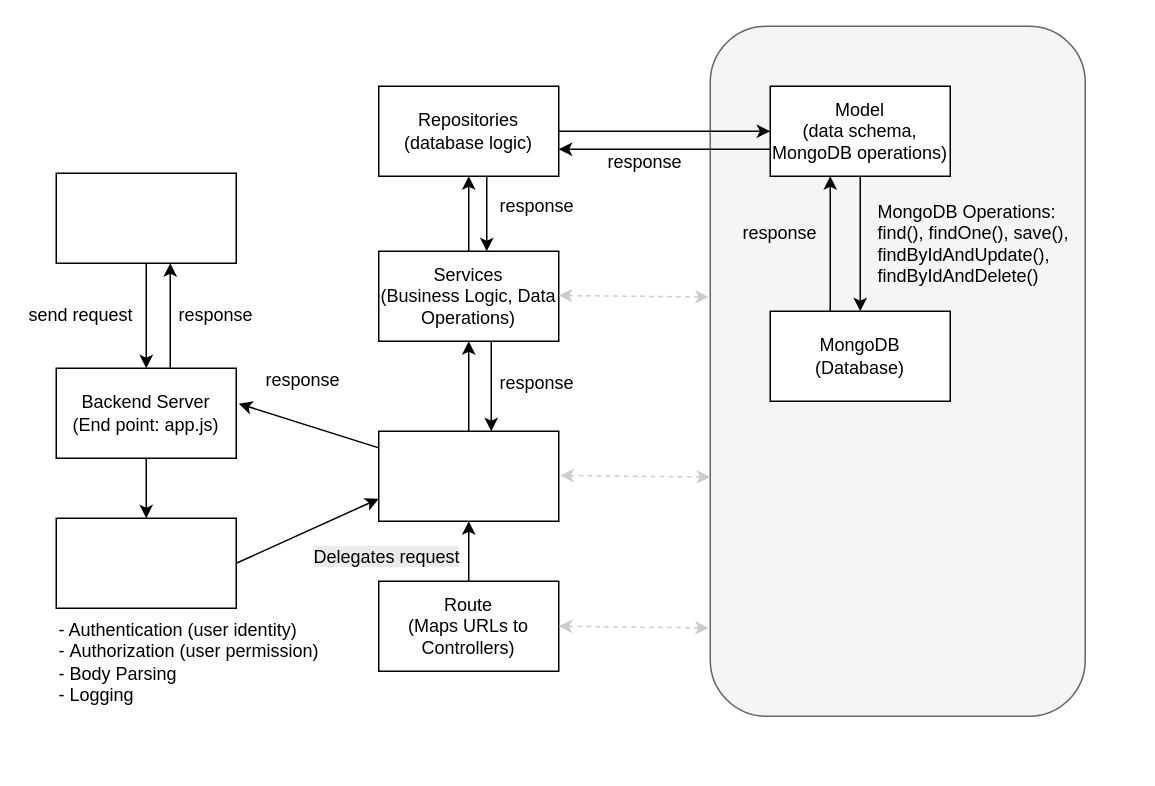
Image size: 1155x786. Some labels were removed from this diagram. The shapes that lost their labels are listed below. From the top down, each one's centre as x and y in pixels, then its label:
(x=145, y=217): Client (Browser, App)
(x=468, y=475): Controller (Handles Request & Calls Service)
(x=145, y=562): Middleware (Processes Request )
